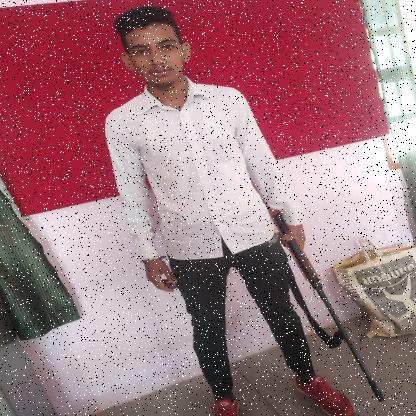rifle: (266, 206, 388, 404)
